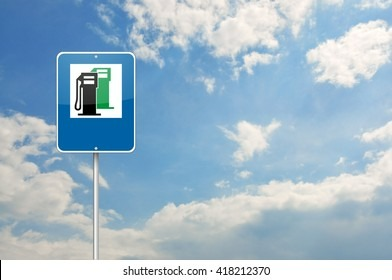fuel-station: (55, 53, 137, 152)
